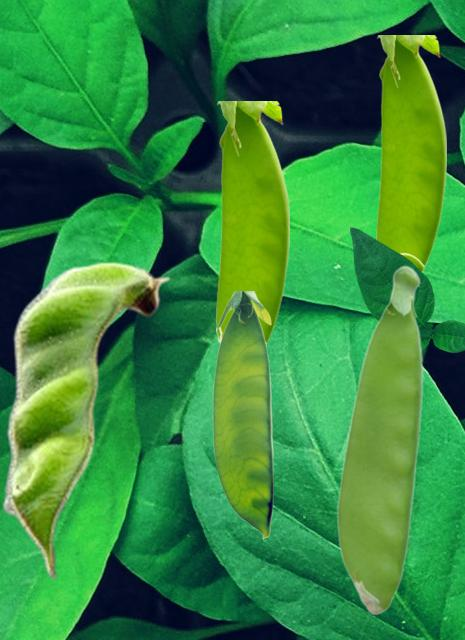pea: (1, 261, 170, 579), (336, 264, 423, 614), (216, 101, 288, 347), (376, 35, 445, 271), (212, 291, 272, 538)
